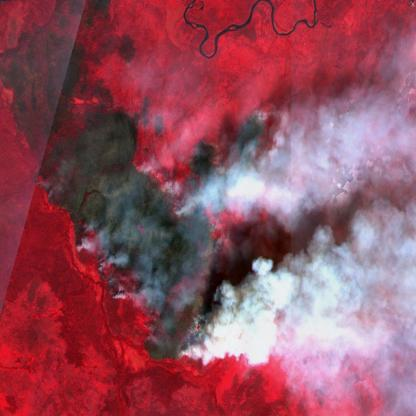fire: (35, 101, 273, 368)
